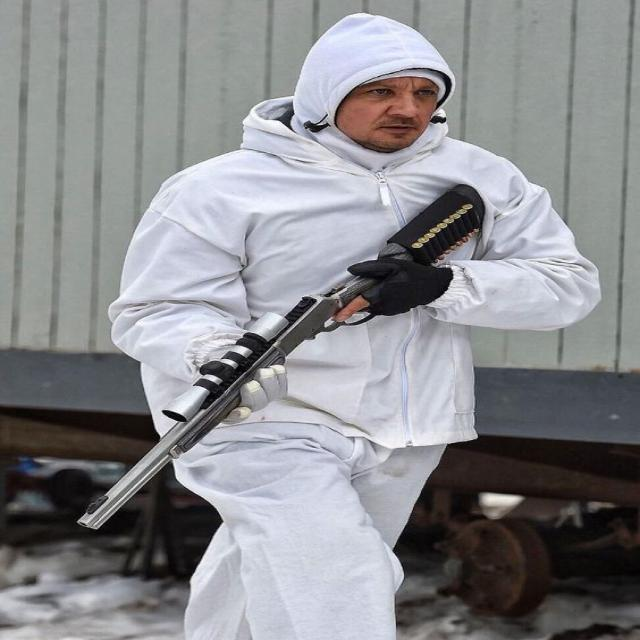shotgun: (62, 180, 490, 539)
